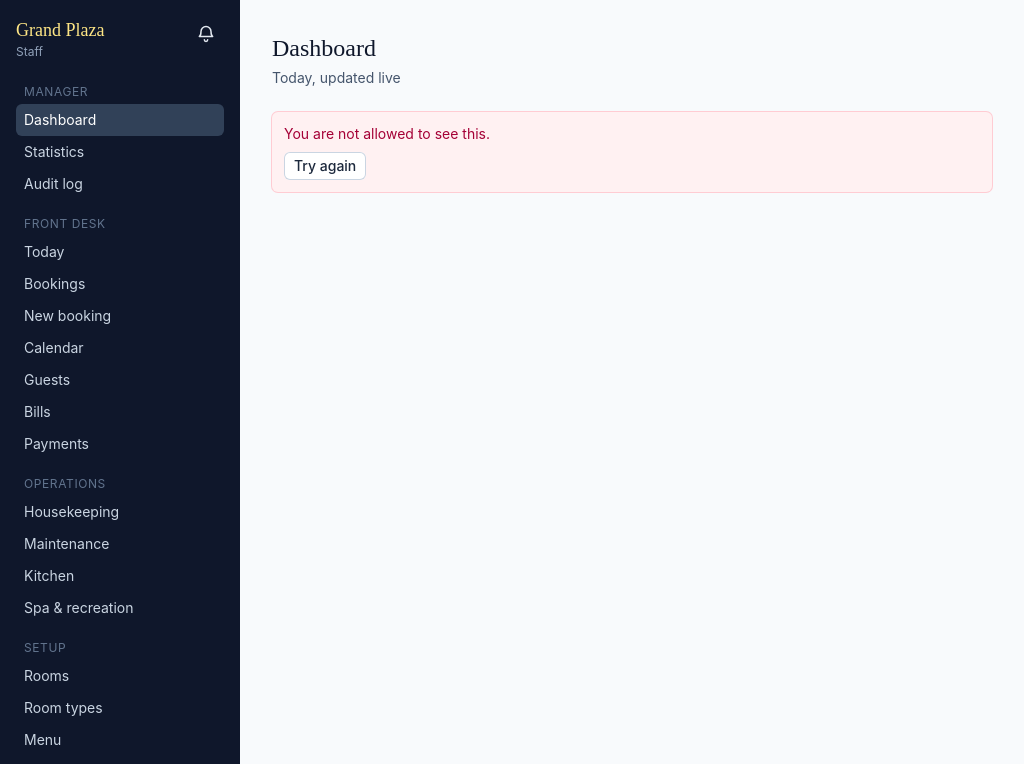
Test: the manager dashboard › shows the error with a retry button, and recovers when the retry works
expect the message shows "You are not allowed to see this.": met, box x1=284 y1=125 x2=490 y2=142
Click the button "Try again".
click(325, 166)  # box x1=284 y1=152 x2=366 y2=180
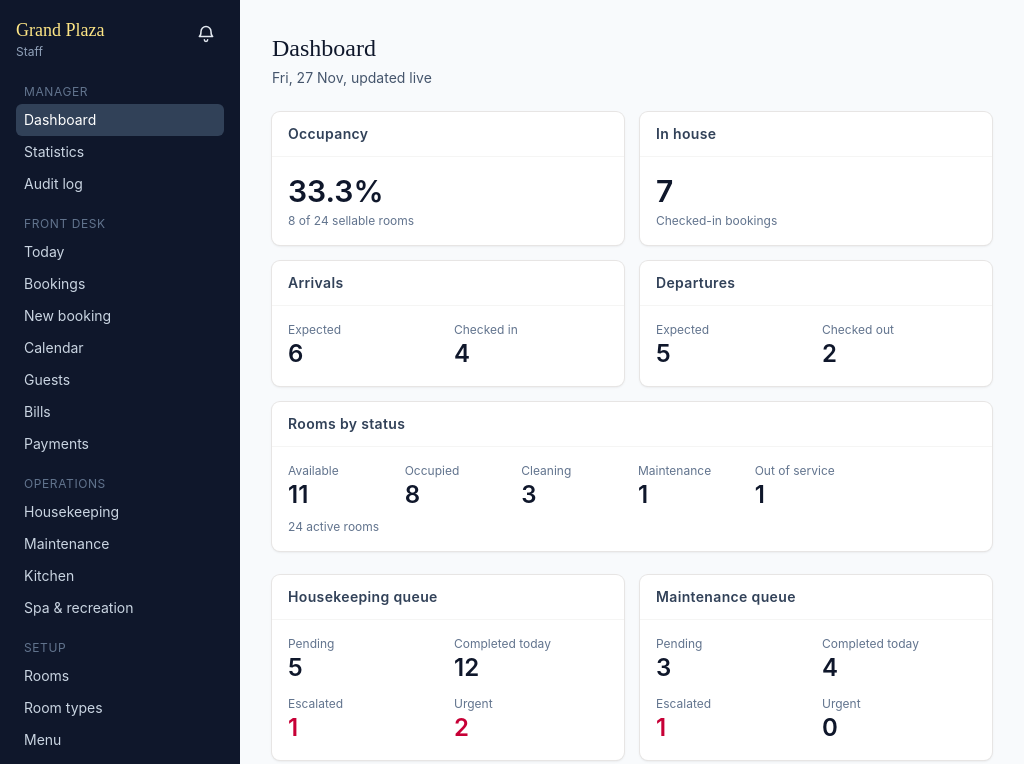
expect the element "Occupancy" is shown: met, box x1=272 y1=112 x2=624 y2=245
